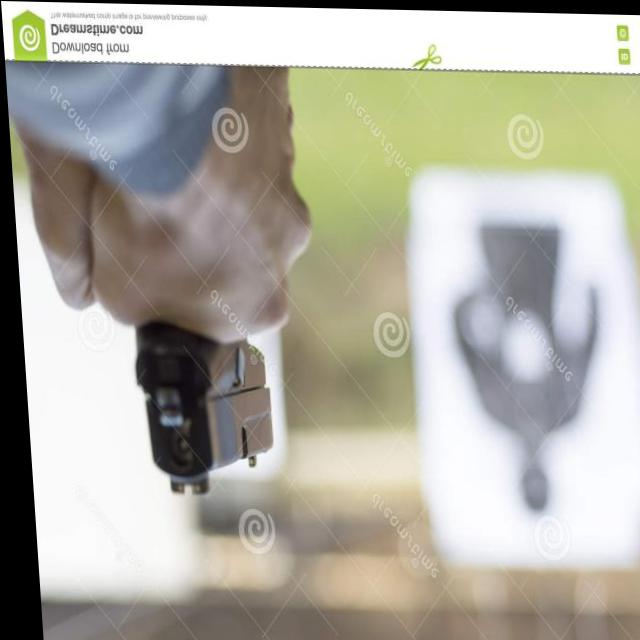handgun: (126, 318, 271, 498)
